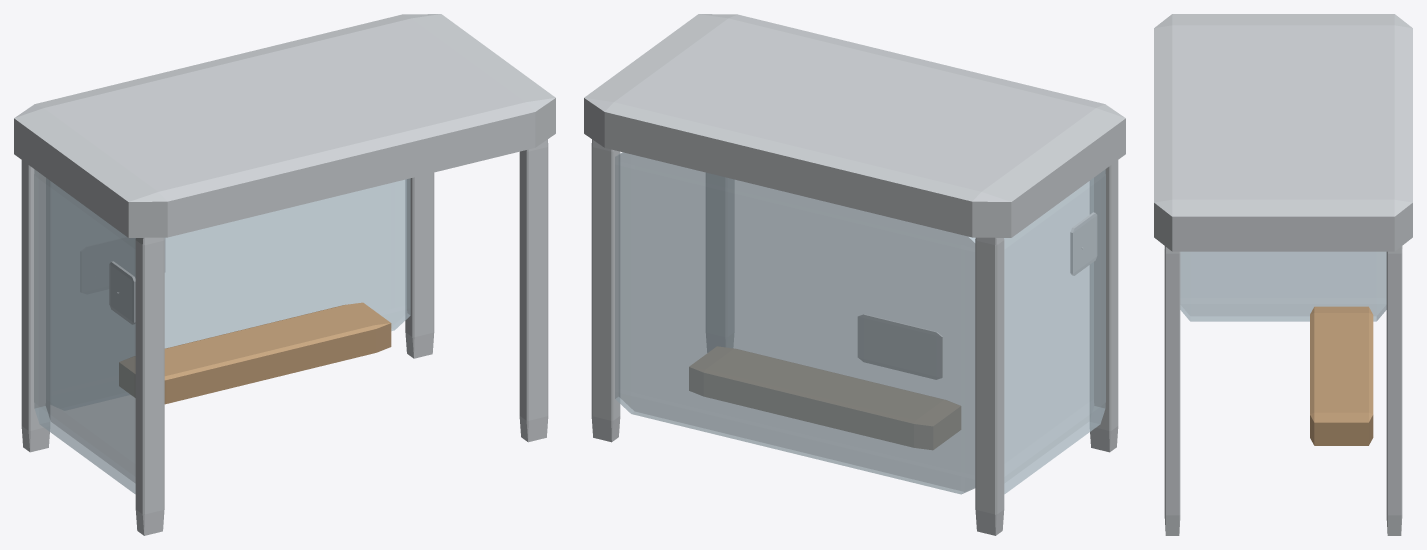
Rendered from b01_barrel_vault_bus_shelter.glb.
3 views of the same model, side by side, from view 1: azimuth 30°, elevation 25°; view 2: azimuth 150°, elevation 25°; view 3: azimuth 270°, elevation 25° (orthographic). The views are drawn at different scales.
Parts seen in each view (by area): view 1: b01_barrel_vault_bus_shelter; view 2: b01_barrel_vault_bus_shelter; view 3: b01_barrel_vault_bus_shelter.
Part boxes in pixels (x1,y1,x2,y2): b01_barrel_vault_bus_shelter: (14, 14, 555, 535); b01_barrel_vault_bus_shelter: (584, 14, 1125, 535); b01_barrel_vault_bus_shelter: (1154, 14, 1412, 535).
Size of the model in its own units: 3.54 by 2.67 by 1.91.
